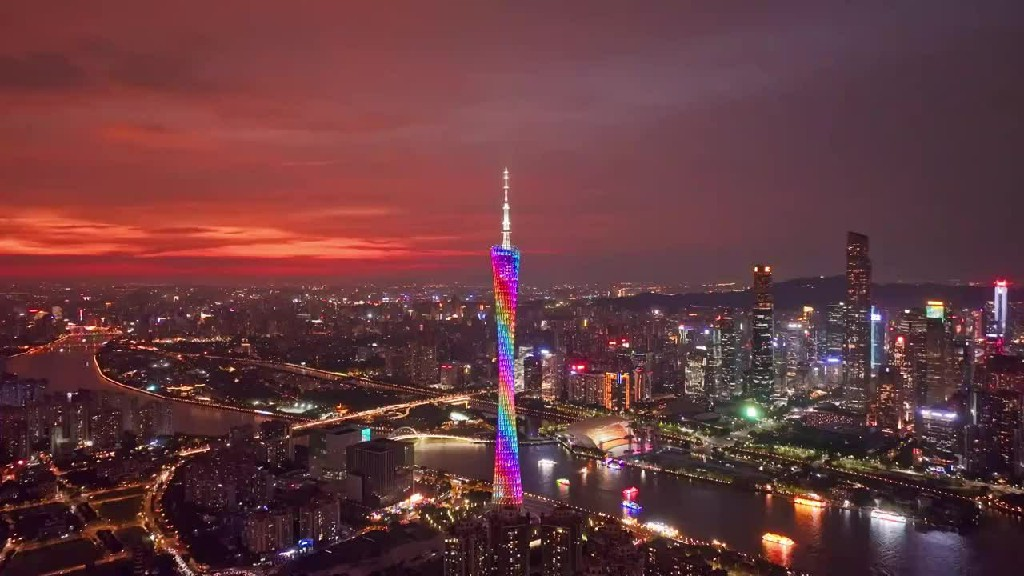Canton: (490, 167, 524, 505)
